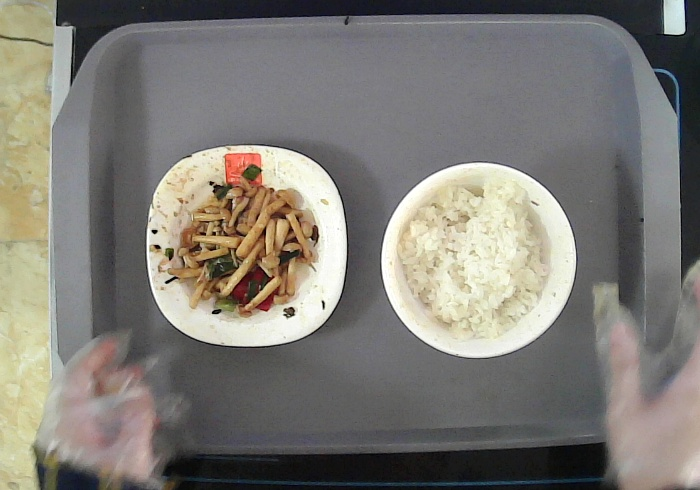SHKJ-Bai_Se_Si_Fang_Cai_Die: (143, 142, 349, 349)
SHKJ-Fan_Wan: (378, 160, 579, 360)
